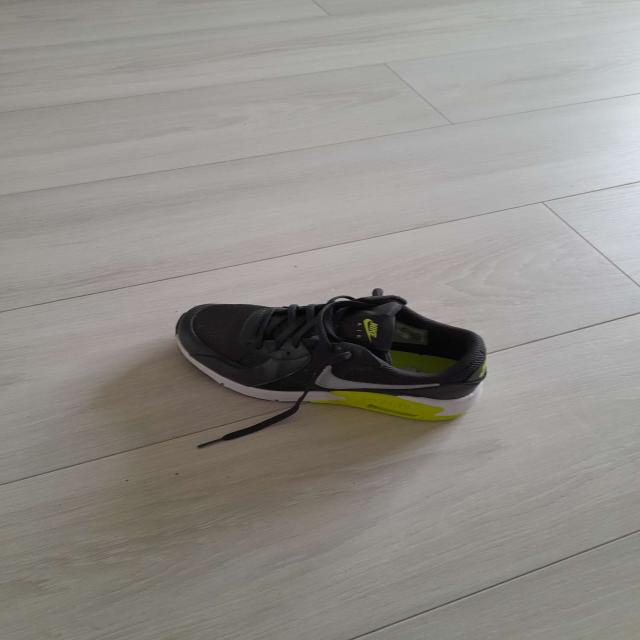shoes: (173, 294, 492, 423)
